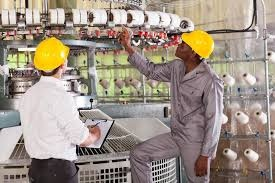yellow: (32, 36, 70, 79), (173, 30, 213, 66)
